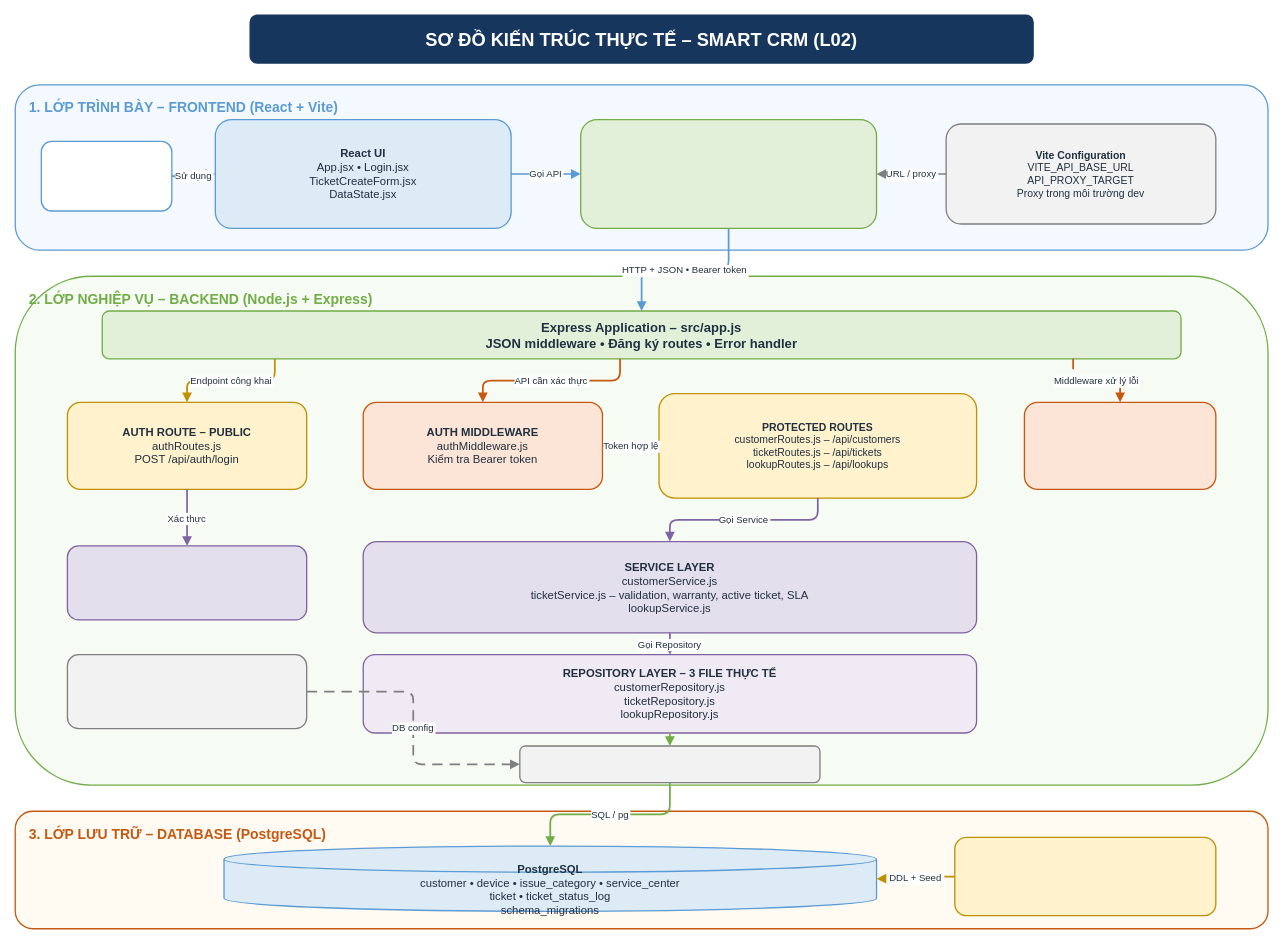
Some shapes in this 1284 by 945 pixel diagram are drawn without their labels. Here are the shapes that lost their labels. From the top down, the centre of each, then its label:
At (106,175): "Người dùng Trình duyệt".
At (728,174): "API Client client.js customers.api.js tickets.api.js • lookups.api.js".
At (1119,445): "ERROR HANDLER errors/errorHandler.js Chuẩn hóa lỗi API".
At (186,582): "Auth Service authService.js Tạo và xác thực phiên".
At (186,691): "Environment .env DB_* • AUTH_*".
At (669,764): "Database Connection – db.js / pg Pool".
At (1085,876): "Migration & Seed migrate.js → 001_init.sql seed.js → 001_demo_data.sql".
